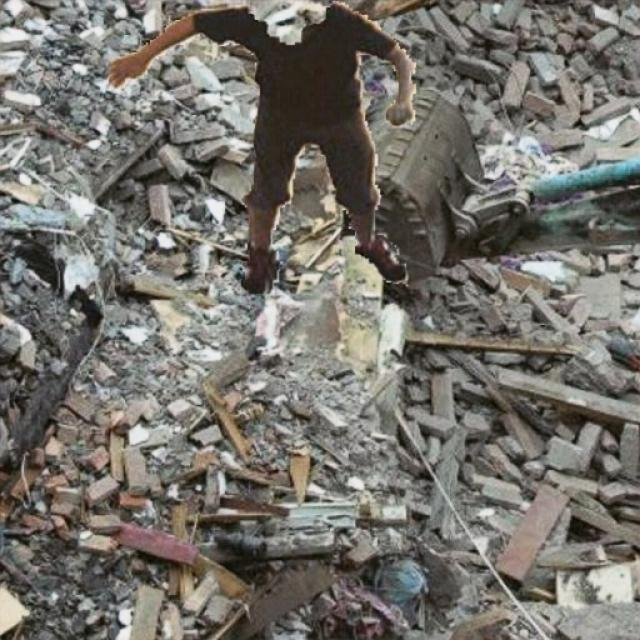Person in Rubble: (109, 1, 415, 292)
